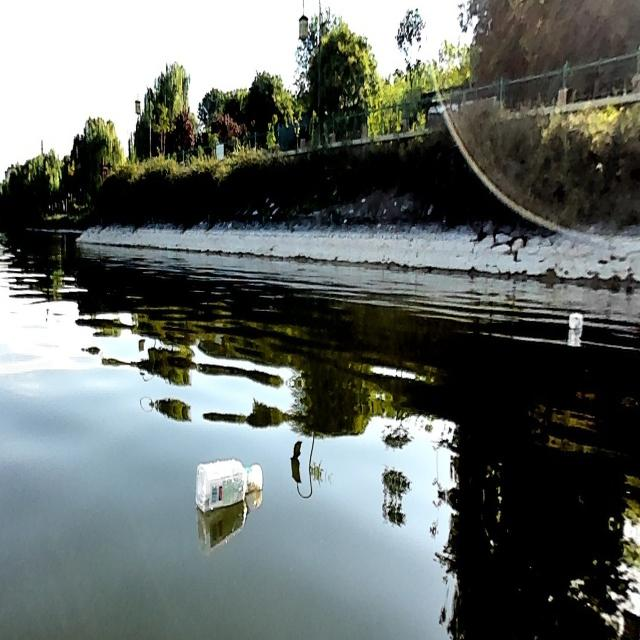bottle: (193, 455, 265, 516), (568, 307, 584, 330)
